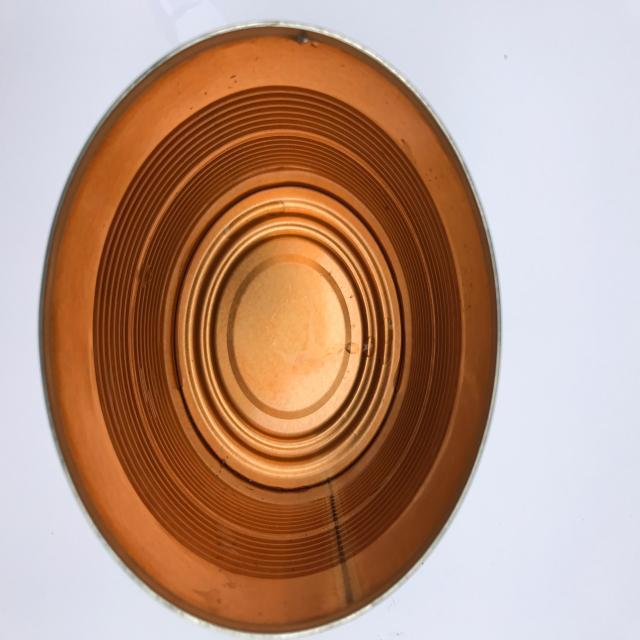metal: (36, 19, 503, 638)
